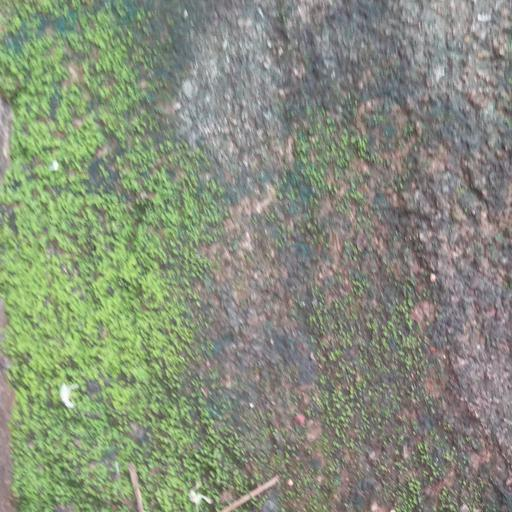algae: (0, 0, 356, 511)
